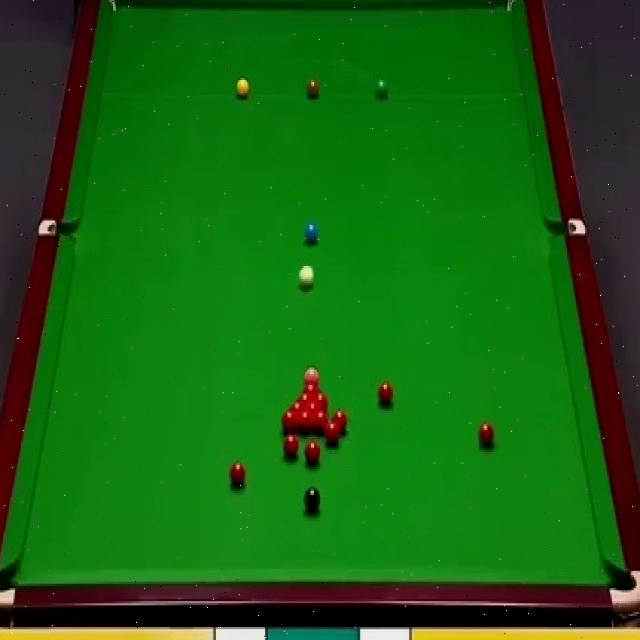black-ball: (304, 486, 322, 514)
blue-ball: (304, 222, 319, 244)
brown-ball: (306, 79, 320, 99)
green-ball: (374, 78, 388, 100)
pink-ball: (304, 365, 319, 379)
red-ball: (477, 421, 496, 452), (228, 462, 246, 488), (304, 440, 321, 466), (378, 382, 393, 408), (284, 433, 300, 457), (324, 422, 340, 446), (281, 409, 297, 433), (313, 410, 329, 434), (332, 409, 347, 434), (297, 409, 312, 432), (314, 391, 328, 408), (300, 380, 320, 391), (296, 392, 313, 402), (304, 401, 322, 410), (290, 401, 304, 411)
white-ball: (298, 264, 316, 292)
yellow-ball: (235, 78, 249, 99)
